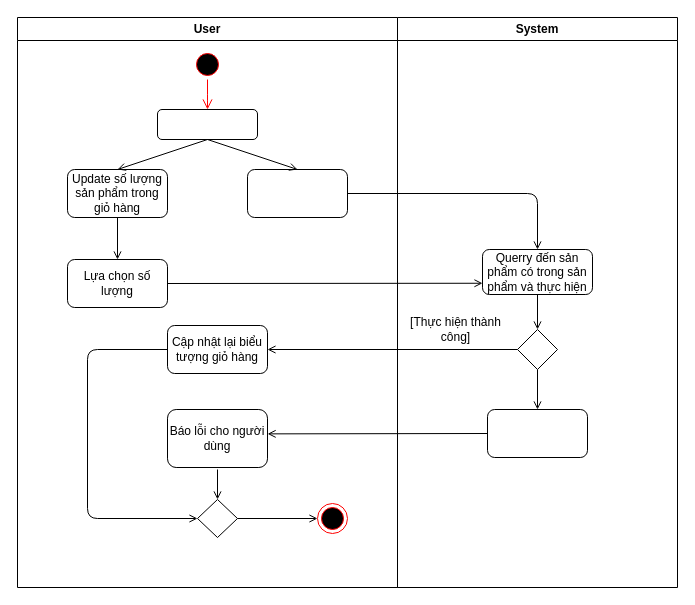
Image size: 695x605. Some labels were removed from this diagram. The shapes that lost their labels are listed below. From the top down, each one's centre as x and y in pixels, then its label:
At point 207,124: "Lựa chọn chức năng".
At point 297,193: "Xóa sản phẩm có trong giỏ hàng".
At point 537,433: "Kiểm tra lại chức năng".
